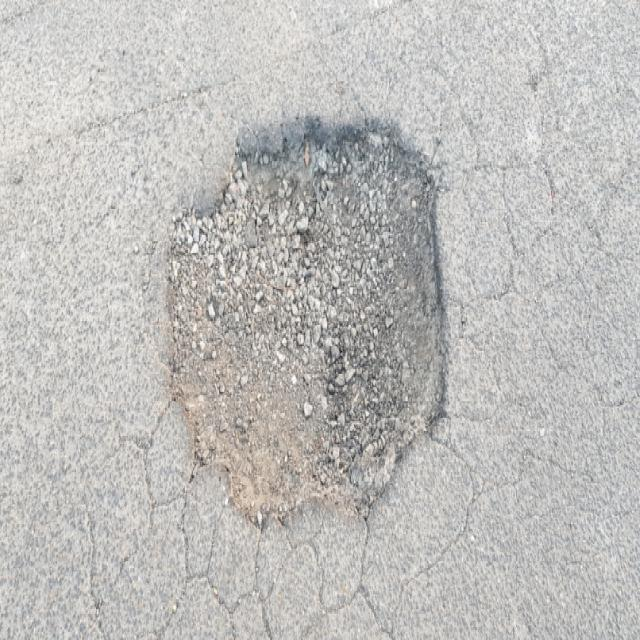Pothole: (163, 96, 457, 542)
